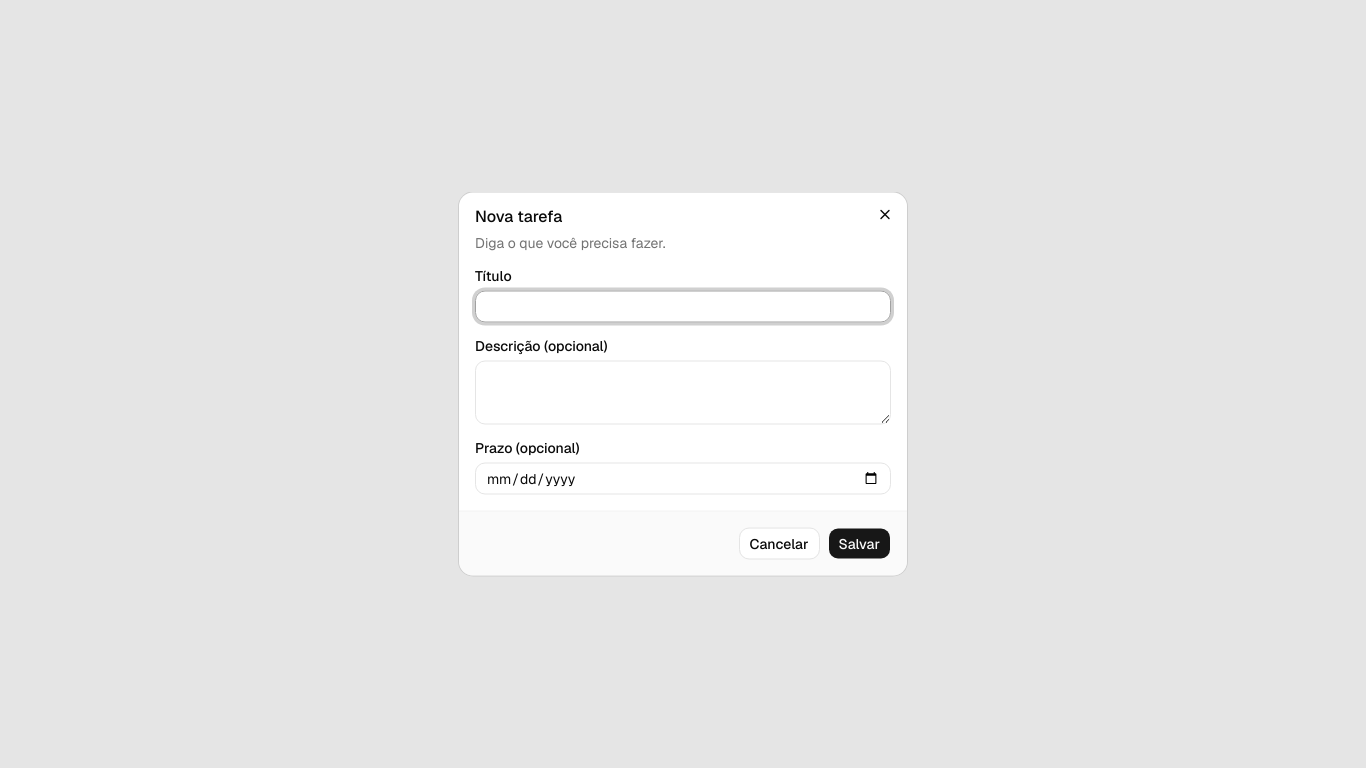
TaskFormDialog creating › shows the server message and keeps the dialog open when the API fails
The width and height of the screenshot is (1366, 768).
Type "Comprar pão" into the field labelled "Título".
click(683, 306); type("Comprar pão")  # box 475,290 -> 891,322
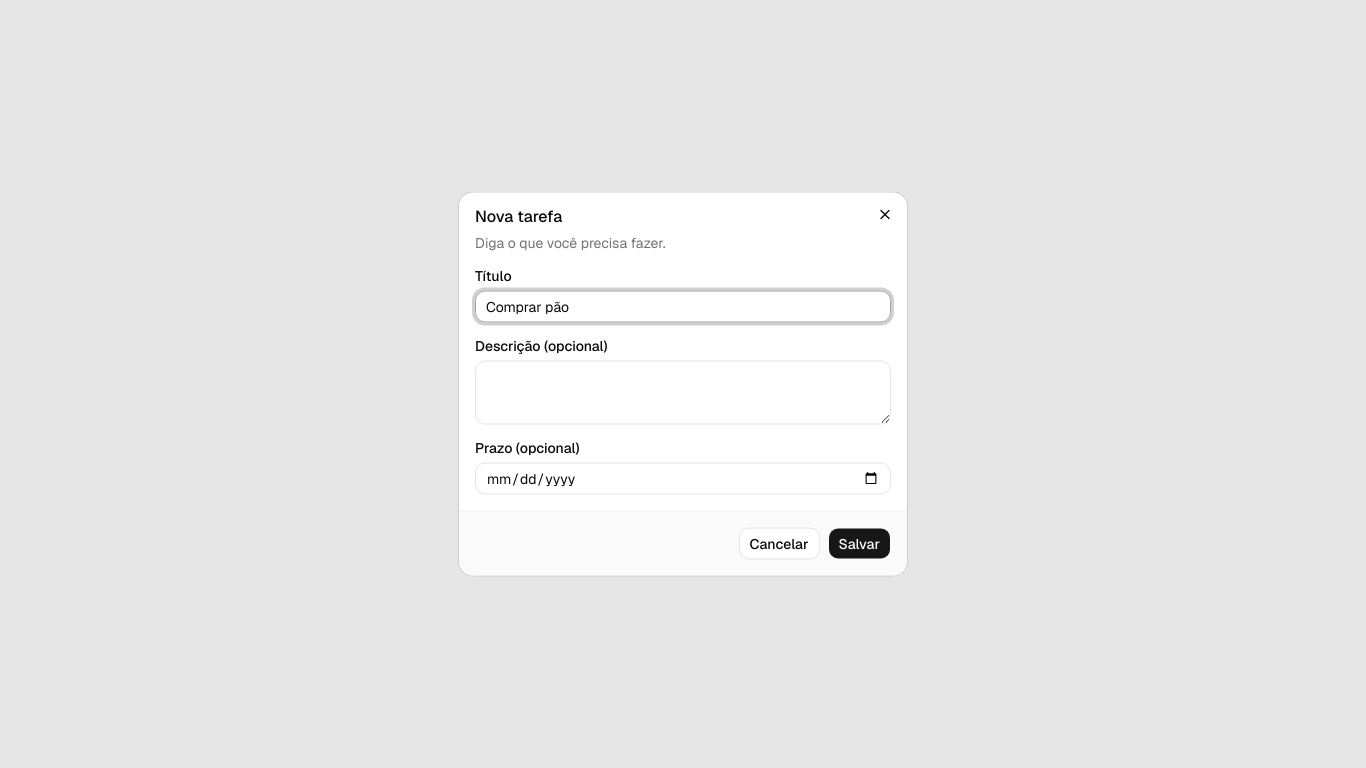
Click the button "Salvar".
click(859, 544)  # box 828,528 -> 891,560
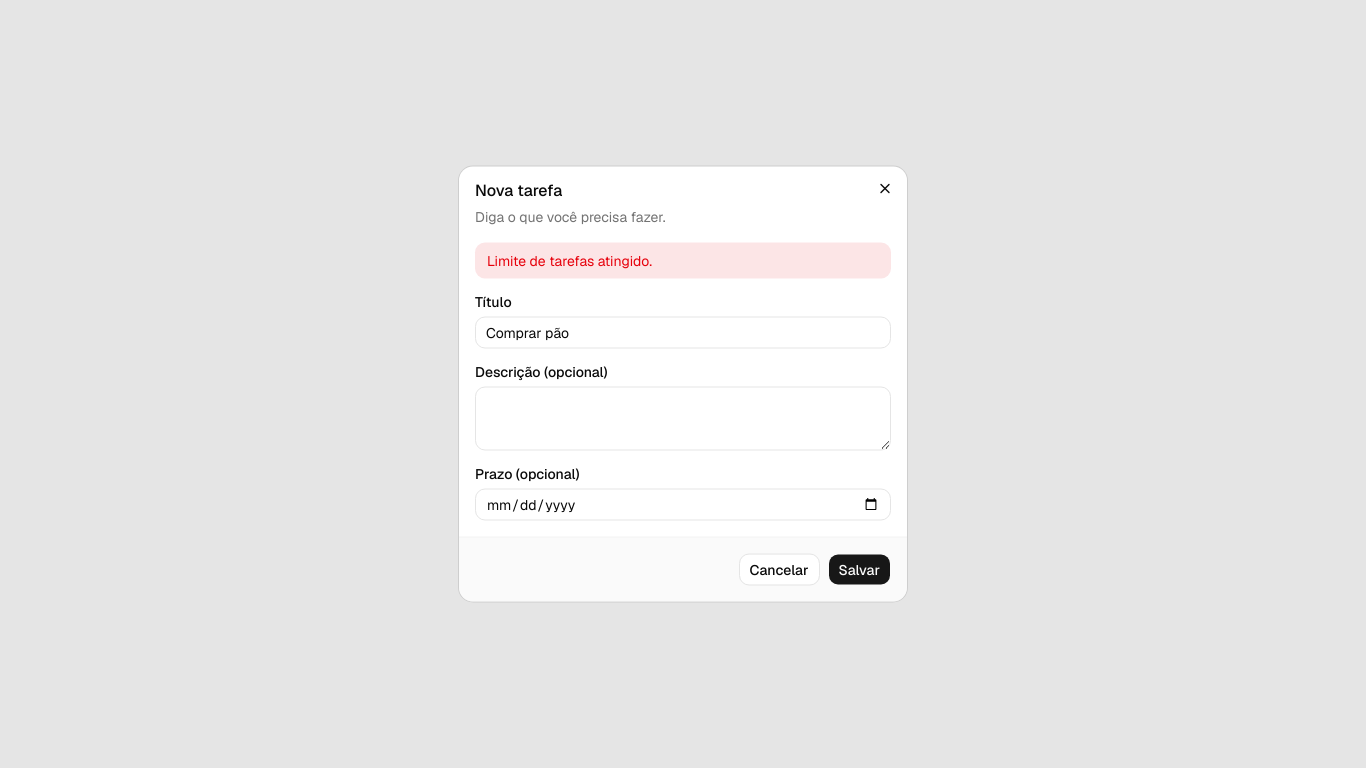
Result: the message reads "Limite de tarefas atingido." at 487,252 -> 652,270
